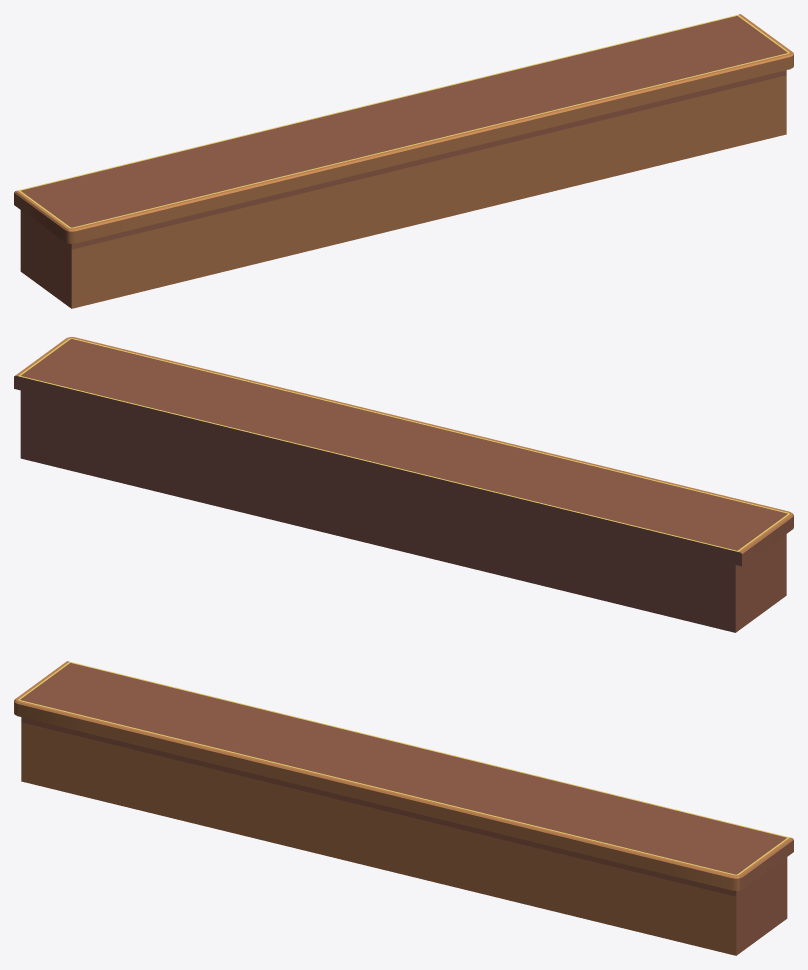
The model's file is MainCounter_01.FBX.
3 views of the same model, one above another, from view 1: azimuth 30°, elevation 25°; view 2: azimuth 150°, elevation 25°; view 3: azimuth 330°, elevation 25° (orthographic).
Visible parts, largest first — view 1: Counter; view 2: Counter; view 3: Counter.
Part boxes in pixels (<box>): Counter: <box>14,14,793,308</box>; Counter: <box>14,337,793,632</box>; Counter: <box>14,661,793,955</box>.
Size of the model in its own units: 560 by 60 by 73.2.
